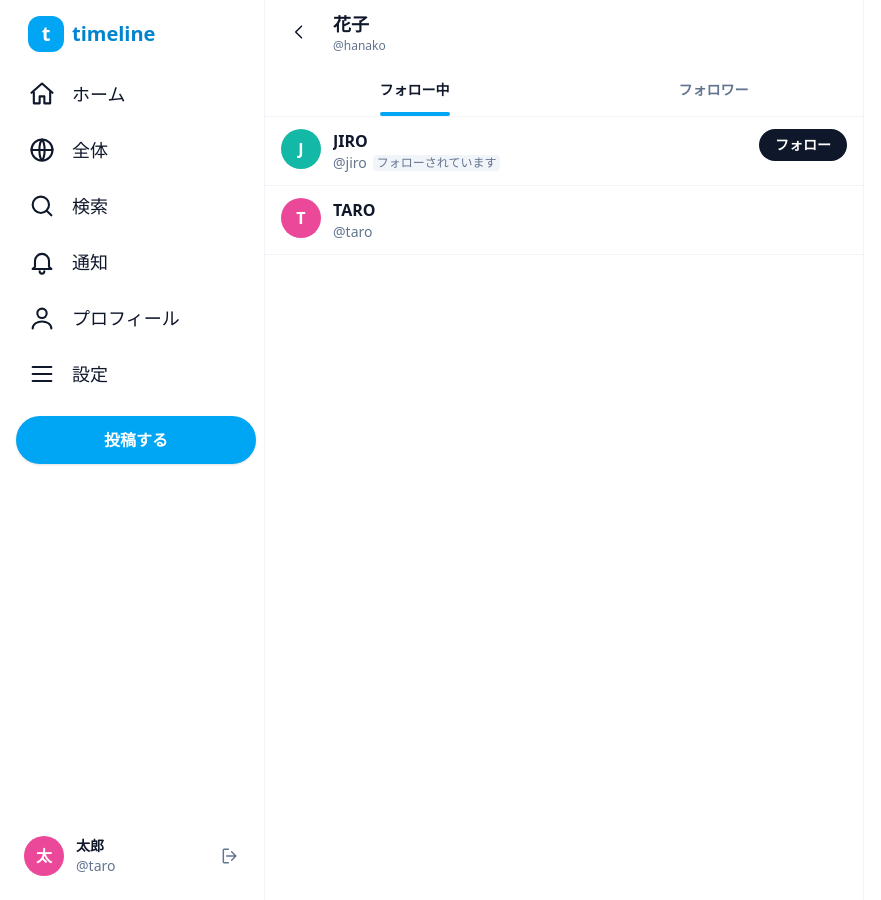
Scenario: フォロー・フォロワー一覧 › 一覧を表示し、タブで切り替えられる
Expected: the text "JIRO" is shown, [333,130,368,152]
Expected: the text "フォローされています" is shown, [373,155,500,171]
Click the button "フォロワー".
click(714, 90)  # box [564,64,863,116]
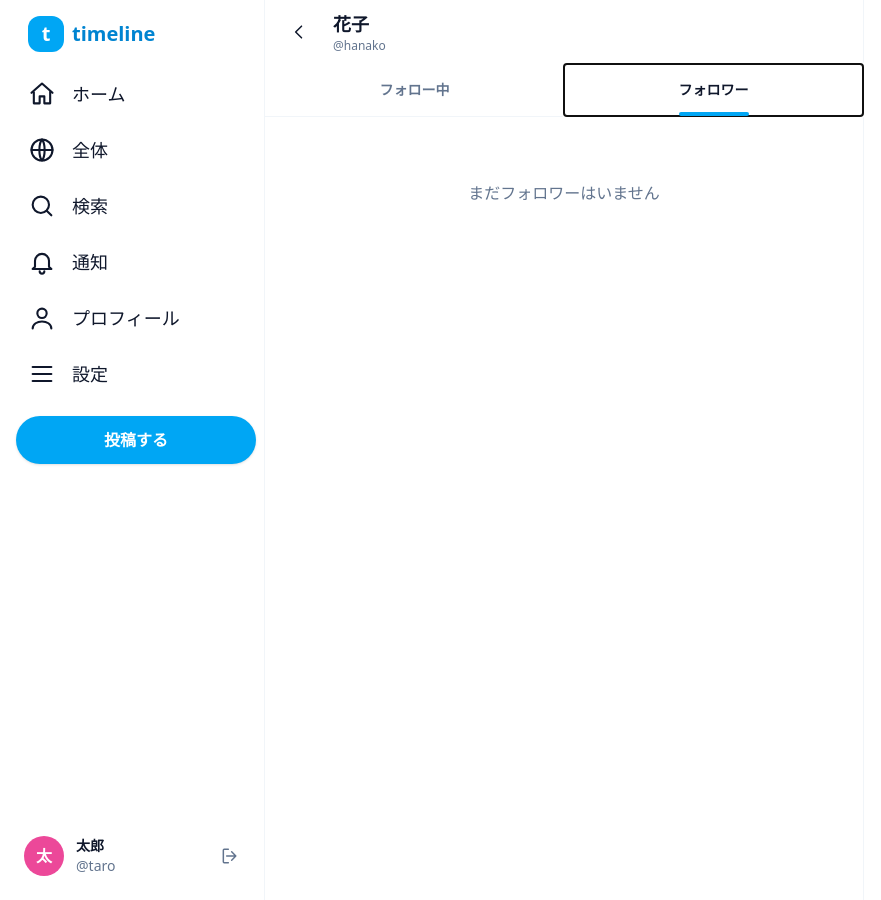
Now the text "まだフォロワーはいません" is shown, box [468,182,660,204]
